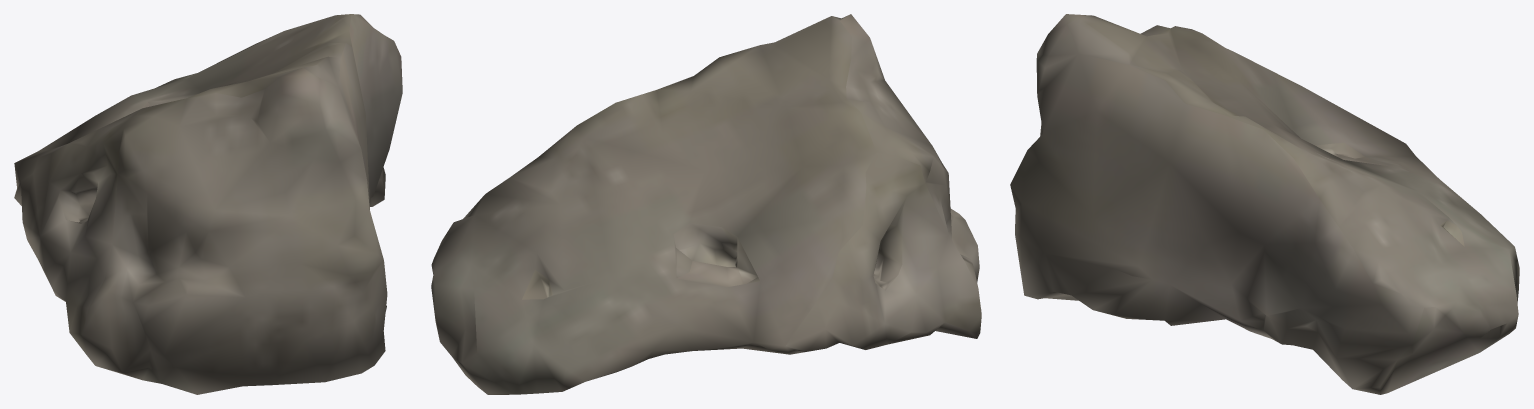
The model's file is moon_rock_06_lod2.glb.
3 views of the same model, side by side, from view 1: azimuth 30°, elevation 25°; view 2: azimuth 150°, elevation 25°; view 3: azimuth 270°, elevation 25° (orthographic). The views are drawn at different scales.
Parts seen in each view (by area): view 1: moon_rock_06_LOD0; view 2: moon_rock_06_LOD0; view 3: moon_rock_06_LOD0.
Part boxes in pixels (x1,y1,x2,y2): moon_rock_06_LOD0: (14, 14, 402, 394); moon_rock_06_LOD0: (431, 14, 981, 394); moon_rock_06_LOD0: (1010, 14, 1519, 394).
Bounding box in the file's own units: 0.0854 × 0.055 × 0.0914.
Materials: 1 (1 with a texture image).
